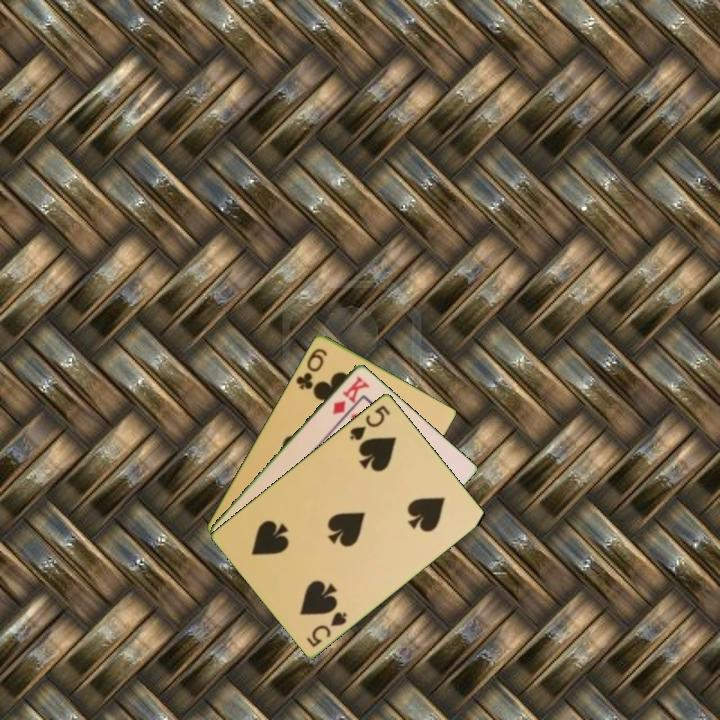5s: (346, 401, 393, 443), (303, 608, 350, 650)
6c: (292, 344, 330, 392)
Kd: (329, 372, 371, 417)
